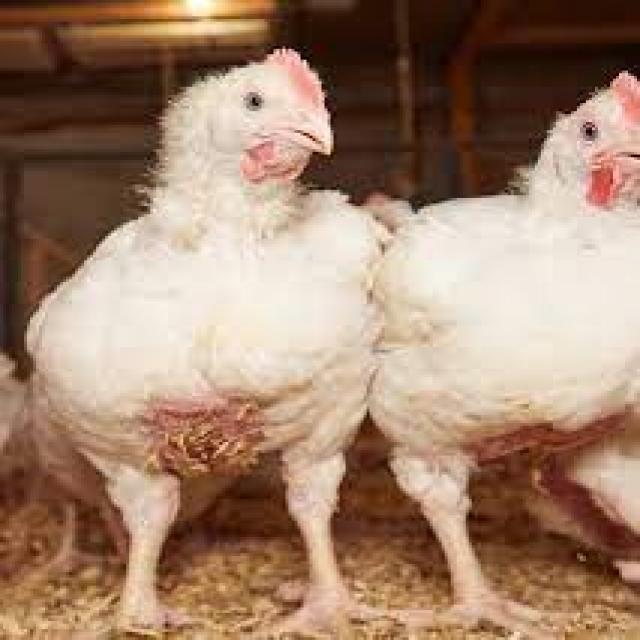poussin: (30, 39, 394, 629), (379, 71, 640, 620)
